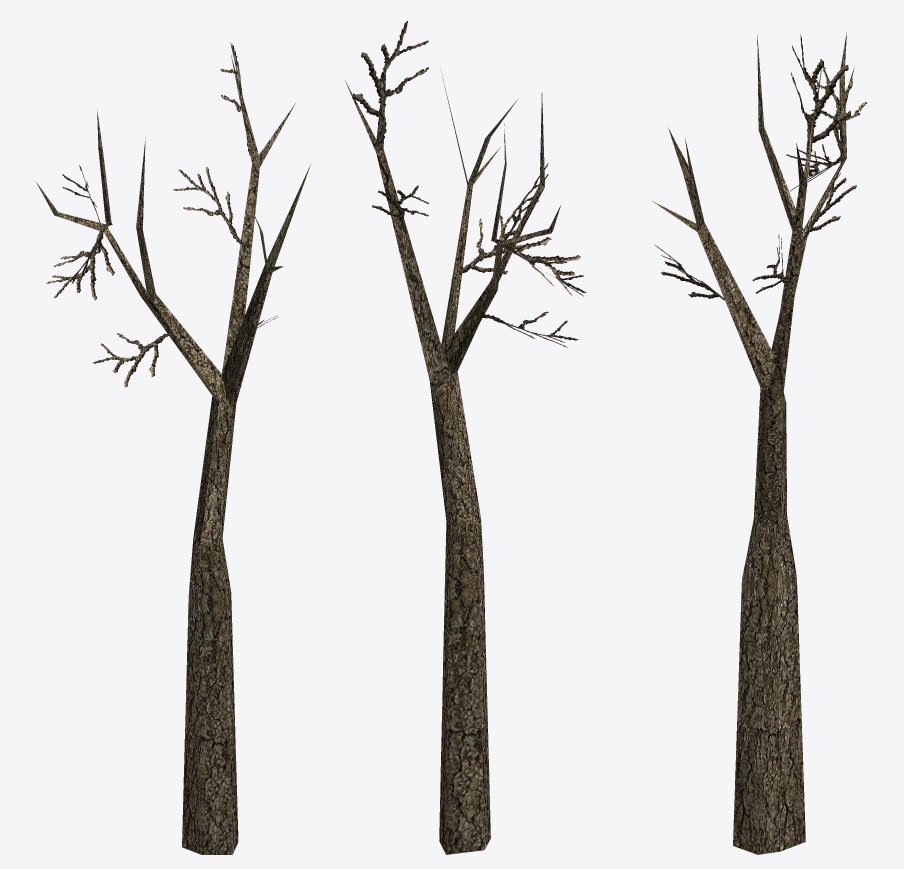
File: tree_dead_a_1.glb
The picture shows the model from 3 angles, left to right: view 1: azimuth 30°, elevation 25°; view 2: azimuth 150°, elevation 25°; view 3: azimuth 270°, elevation 25°; orthographic projection. The views are drawn at different scales.
Parts seen in each view (by area): view 1: tree_dead_a_1; view 2: tree_dead_a_1; view 3: tree_dead_a_1.
Part boxes in pixels (left/top/right/bottom): tree_dead_a_1: left=36, top=42, right=310, bottom=854; tree_dead_a_1: left=345, top=21, right=586, bottom=854; tree_dead_a_1: left=652, top=32, right=866, bottom=854.
Size of the model in its own units: 9.06 by 26.21 by 7.06.
1 material, 1 textured.
